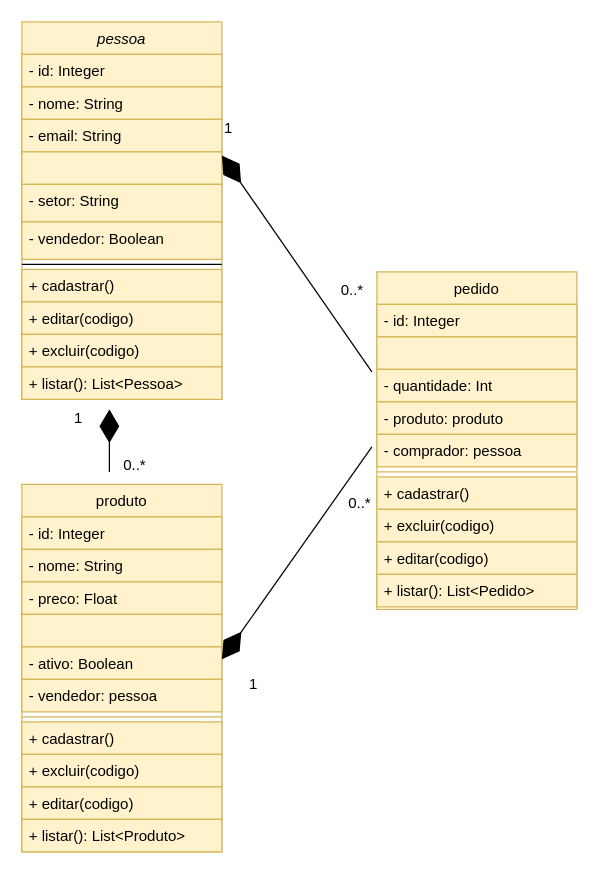
Image size: 599x878. Some labels were removed from this diagram. The shapes that lost their labels are listed below. From the top down, each one's centre as x and y in pixels, then its label:
At (121,167): "- senha: String".
At (476,352): "- data: DateTime".
At (121,630): "- imagem: Image".
